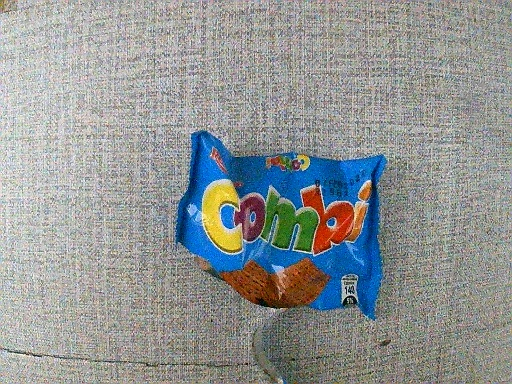plastic: (164, 136, 395, 319)
